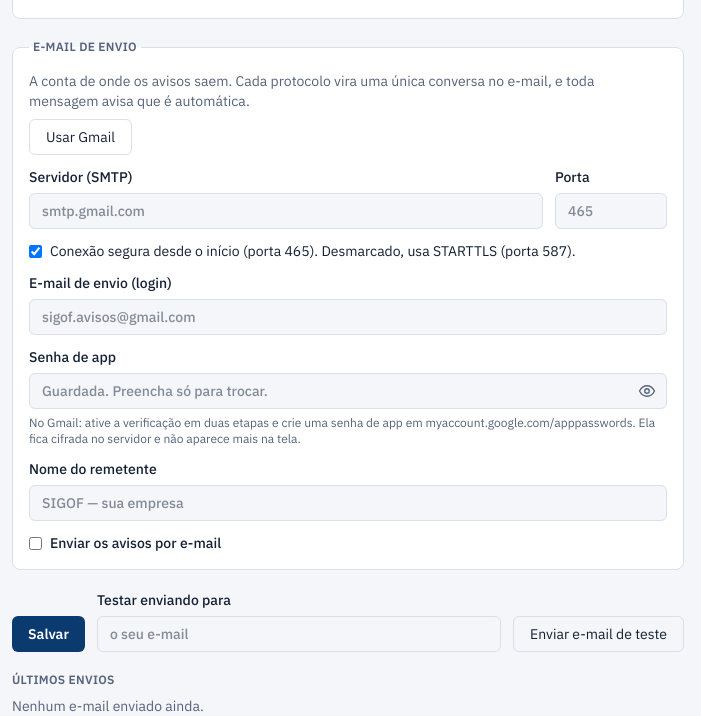
it: aba E-mail da administração › salvar sem digitar a senha não manda senha; desligado avisa
(page scrolled)
Click the button "Salvar" at {"x": 48, "y": 634}, box [12,616,85,652]
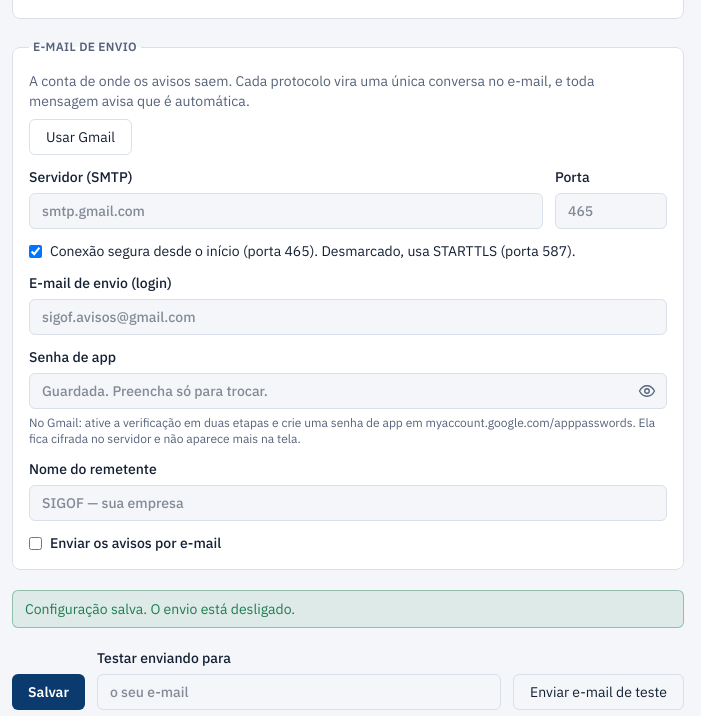
Expected: the text "Configuração salva. O envio está desligado." is shown, [12,590,684,628]
